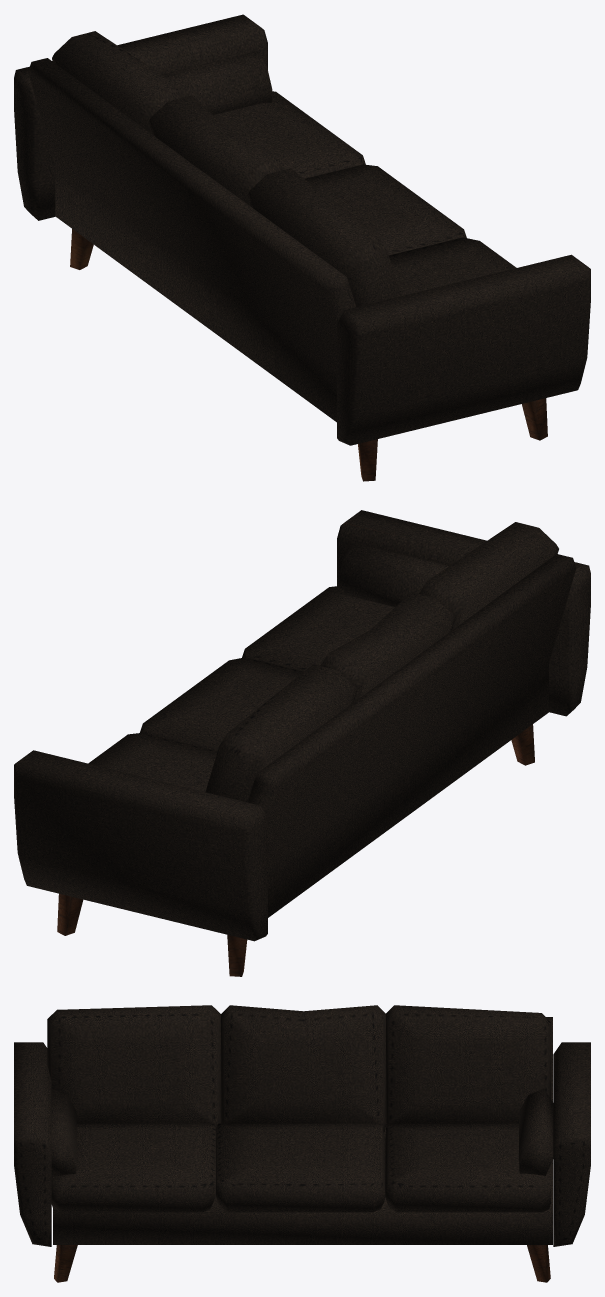
File: low_poly_sofa_38tIRQH.glb
3 renders of one model, top to bottom at view 1: azimuth 30°, elevation 25°; view 2: azimuth 150°, elevation 25°; view 3: azimuth 270°, elevation 25°, orthographic. The views are drawn at different scales.
Visible parts, largest first — view 1: sofa; view 2: sofa; view 3: sofa.
Boxes of the visible parts, x1,y1,x2,y2 form: sofa: (14,14,590,481); sofa: (14,510,590,976); sofa: (14,1005,590,1282).
Size of the model in its own units: 0.6162 by 0.5823 by 1.5.
1 material, 1 textured.
